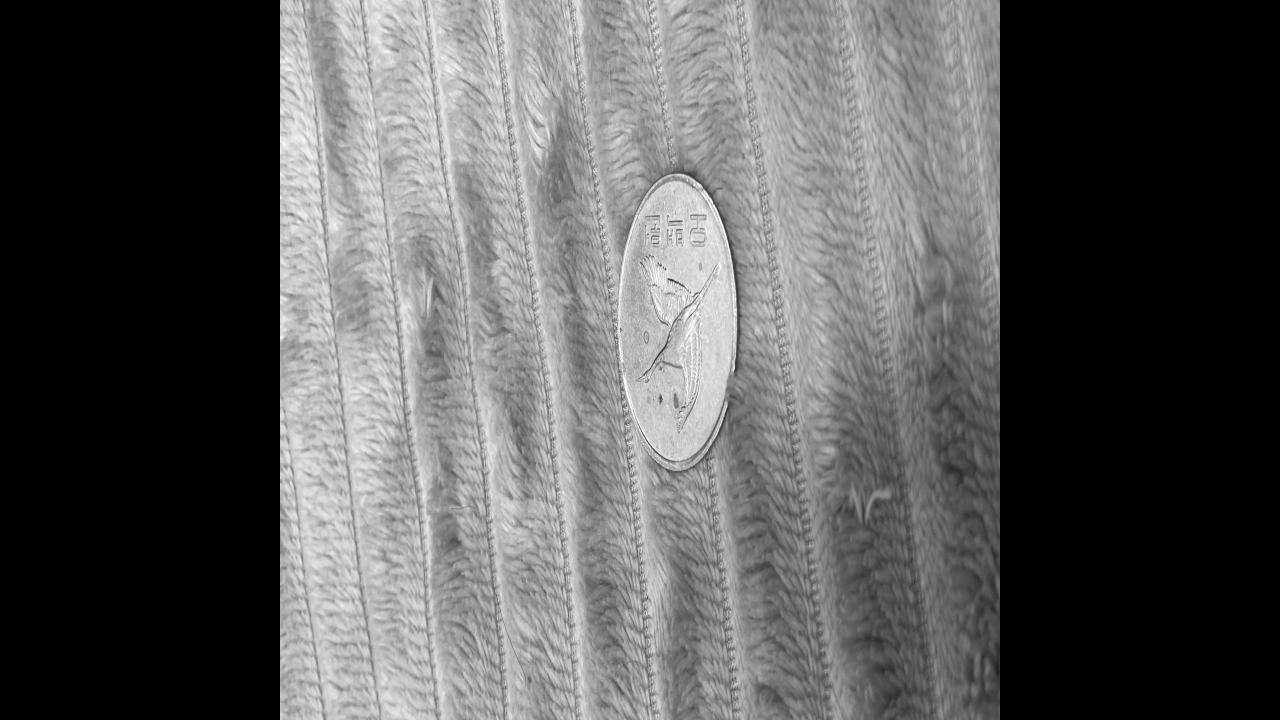coin: (616, 174, 736, 474)
